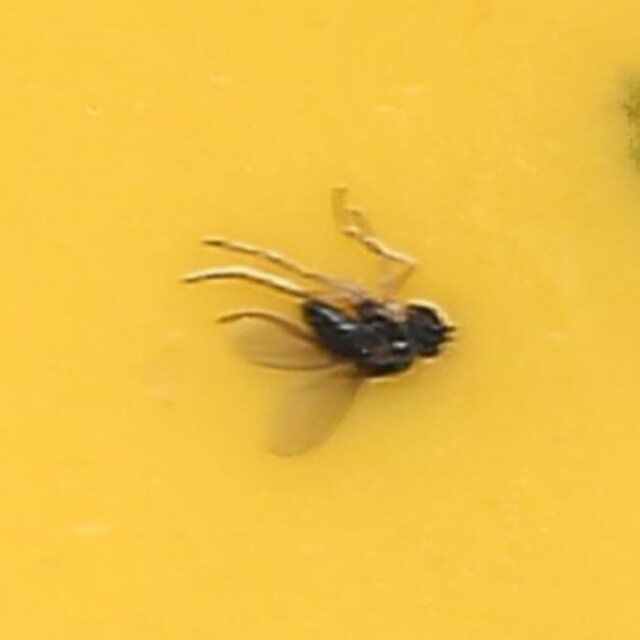Brachycera: (189, 189, 451, 451)
